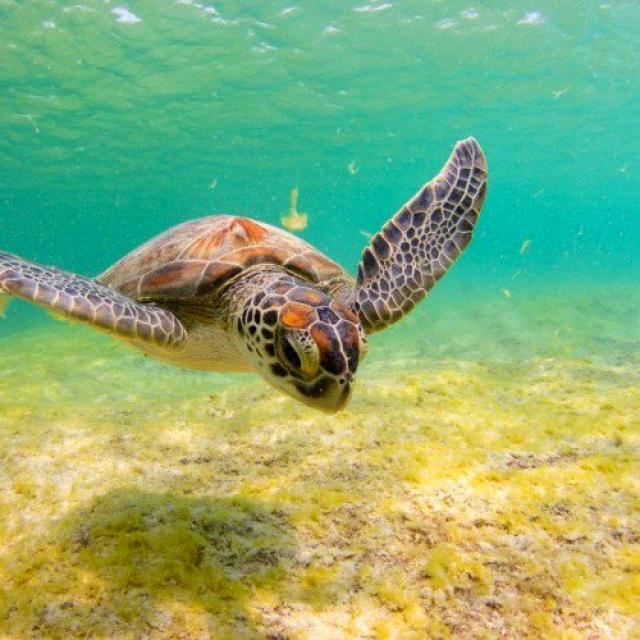turtle: (0, 138, 486, 411)
